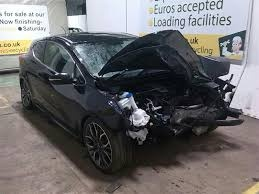Broken-glass: (75, 45, 108, 69)
Smashed: (103, 59, 242, 154)
